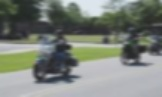Vehicle: (33, 36, 78, 83), (121, 35, 142, 67), (148, 36, 162, 56)
